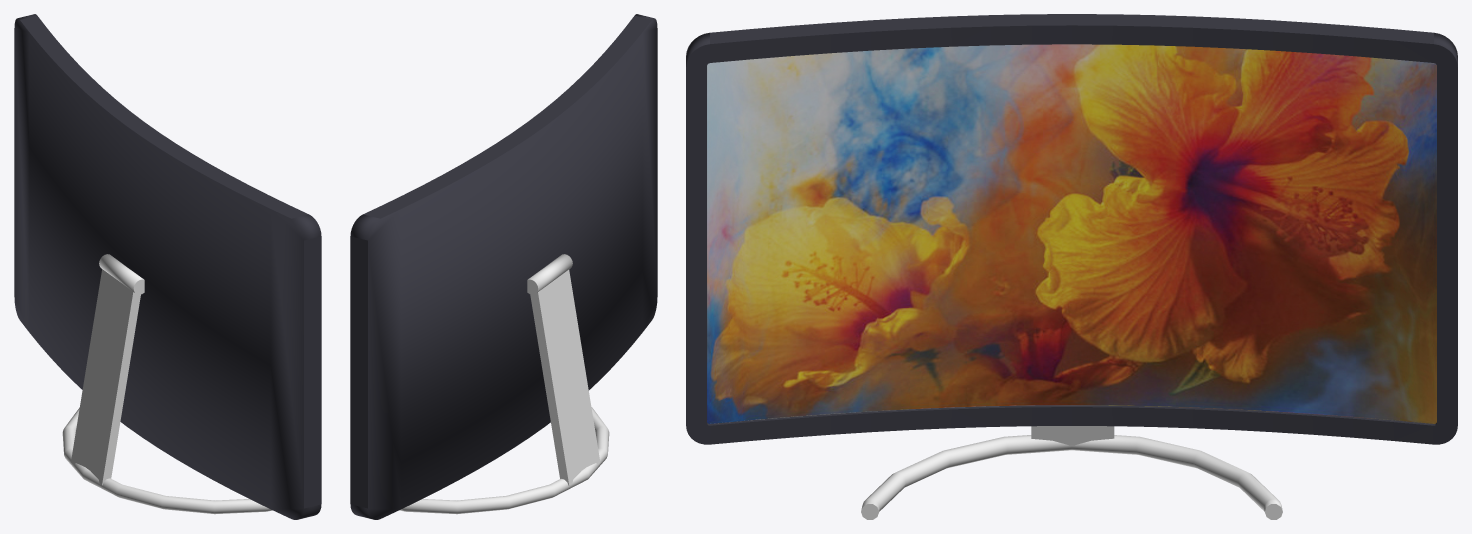
The model's file is B2A80FFD-E58B-47CB-8810-E304863DAEBC.dae.
3 renders of one model, left to right at view 1: azimuth 30°, elevation 25°; view 2: azimuth 150°, elevation 25°; view 3: azimuth 270°, elevation 25°, orthographic. The views are drawn at different scales.
Parts seen in each view (by area): view 1: TV_49_curved; view 2: TV_49_curved; view 3: TV_49_curved.
Part boxes in pixels (<box>): TV_49_curved: <box>14,14,321,519</box>; TV_49_curved: <box>350,14,657,519</box>; TV_49_curved: <box>686,14,1457,519</box>.
Bounding box in the file's own units: 0.2564 × 1.12 × 0.7348.
4 materials, 2 textured.
